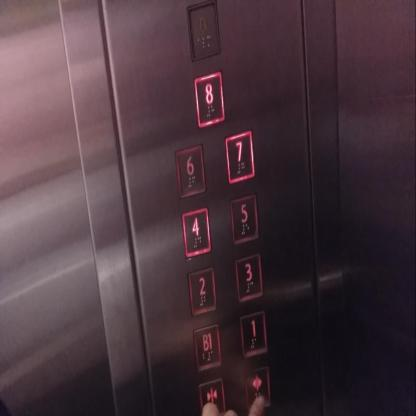1: (240, 309, 268, 358)
2: (186, 264, 217, 317)
3: (234, 252, 264, 302)
4: (181, 202, 212, 258)
5: (229, 193, 259, 245)
6: (174, 144, 206, 196)
7: (224, 128, 256, 184)
8: (193, 68, 225, 127)
B1: (193, 324, 221, 370)
alarm: (187, 1, 221, 60)
close: (198, 376, 226, 415)
open: (244, 361, 271, 408)
